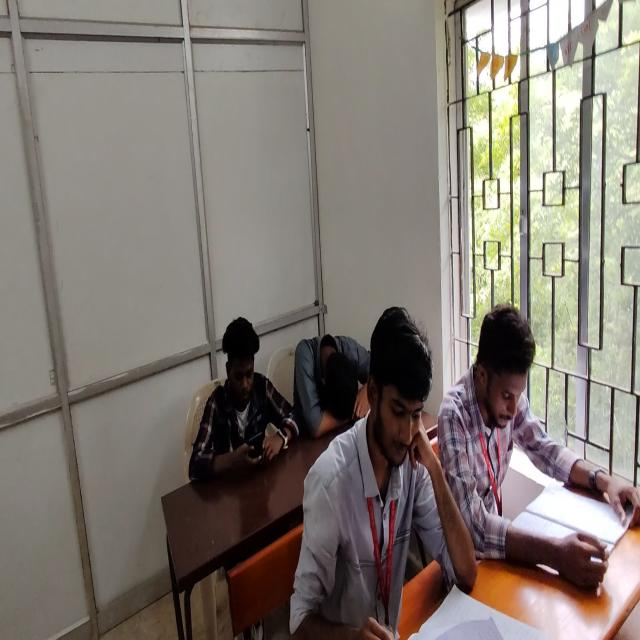reading: (441, 303, 640, 592), (294, 308, 465, 640)
sleeping: (293, 331, 370, 441)
using_mobile: (189, 311, 303, 484)
